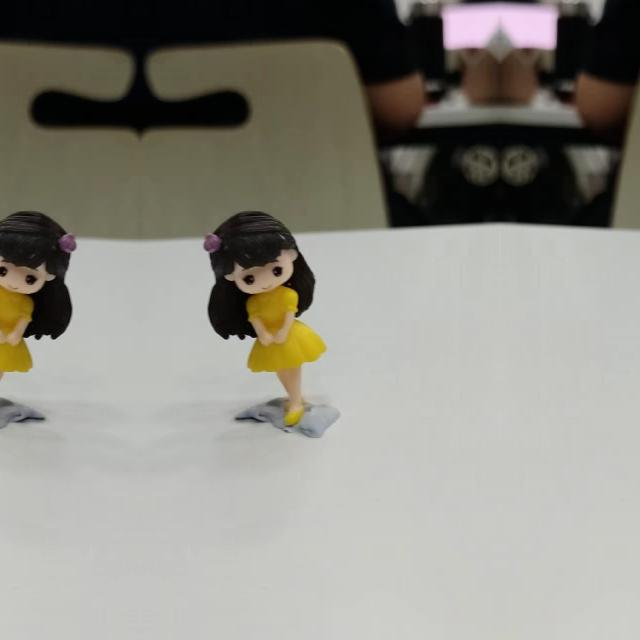woman head: (204, 208, 296, 294), (0, 207, 76, 294)
